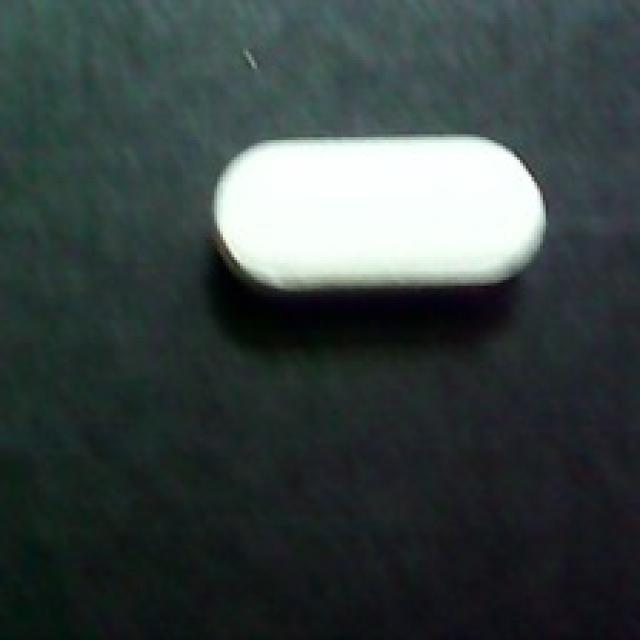no-defect: (209, 134, 551, 314)
